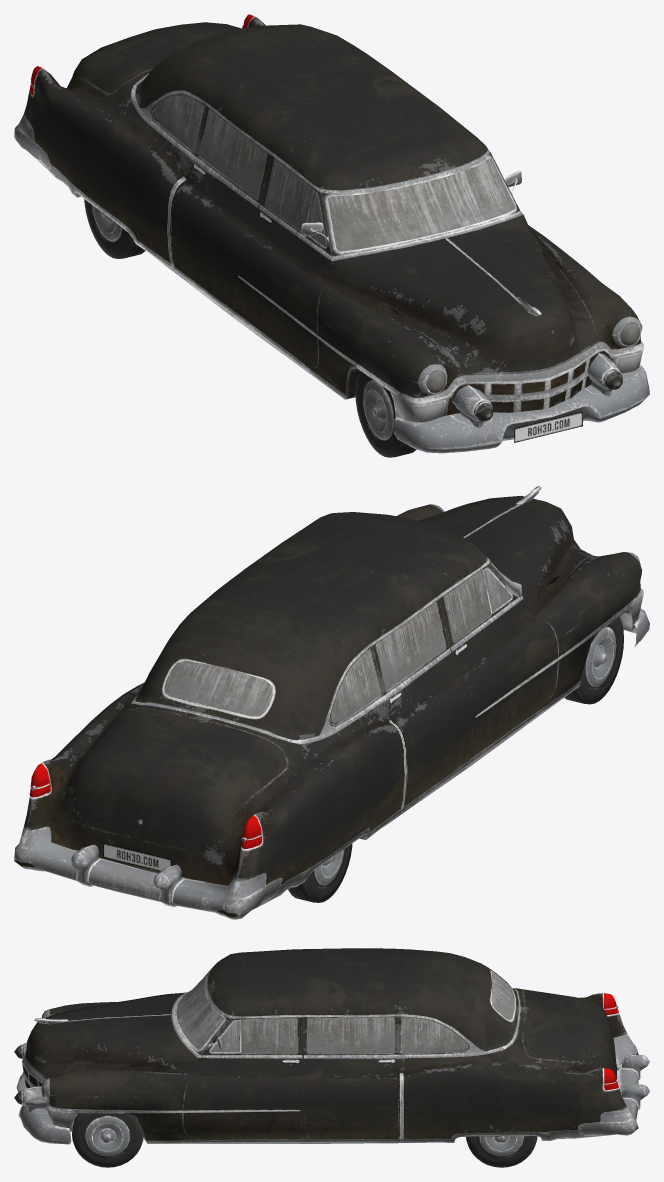
The model's file is p_sedan_cadillac_dirty.glb.
The picture shows the model from 3 angles, top to bottom: view 1: azimuth 30°, elevation 25°; view 2: azimuth 150°, elevation 25°; view 3: azimuth 270°, elevation 25°; orthographic projection. The views are drawn at different scales.
Visible parts, largest first — view 1: Object_3, Object_2; view 2: Object_3, Object_2; view 3: Object_3, Object_2.
Part boxes in pixels (bbox=[...]): Object_3: bbox=[14, 16, 649, 457]; Object_2: bbox=[17, 14, 641, 457]; Object_3: bbox=[14, 486, 649, 915]; Object_2: bbox=[15, 486, 642, 919]; Object_3: bbox=[16, 948, 649, 1156]; Object_2: bbox=[14, 967, 649, 1167].
Size of the model in its own units: 1.84 by 1.6 by 5.67.
1 material, 1 textured.
